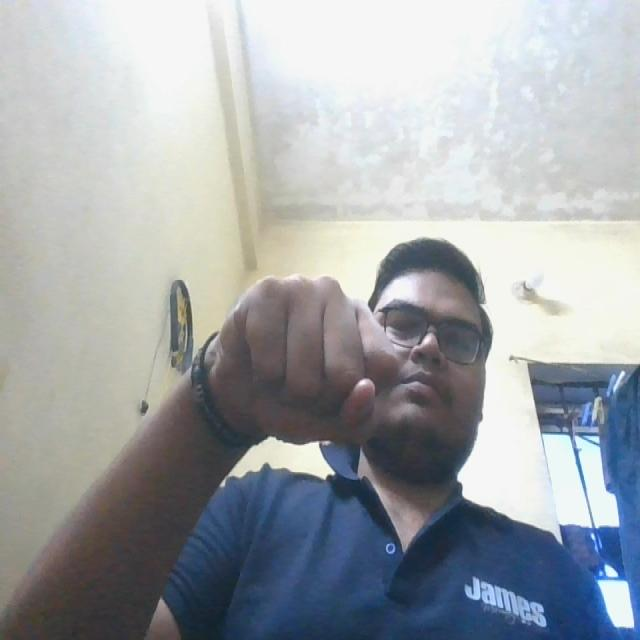Yes: (214, 237, 404, 460)
